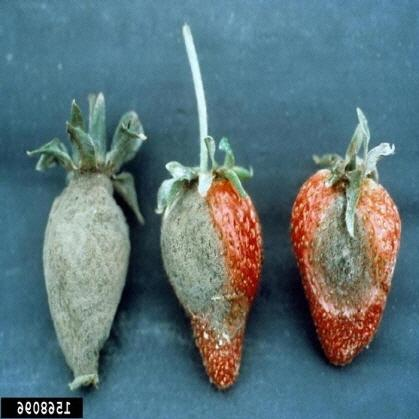Gray Mold: (25, 93, 146, 390), (288, 107, 402, 366), (155, 137, 262, 391)
